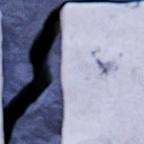brick: (61, 4, 143, 143), (0, 48, 2, 143)
crack: (1, 0, 143, 143)
